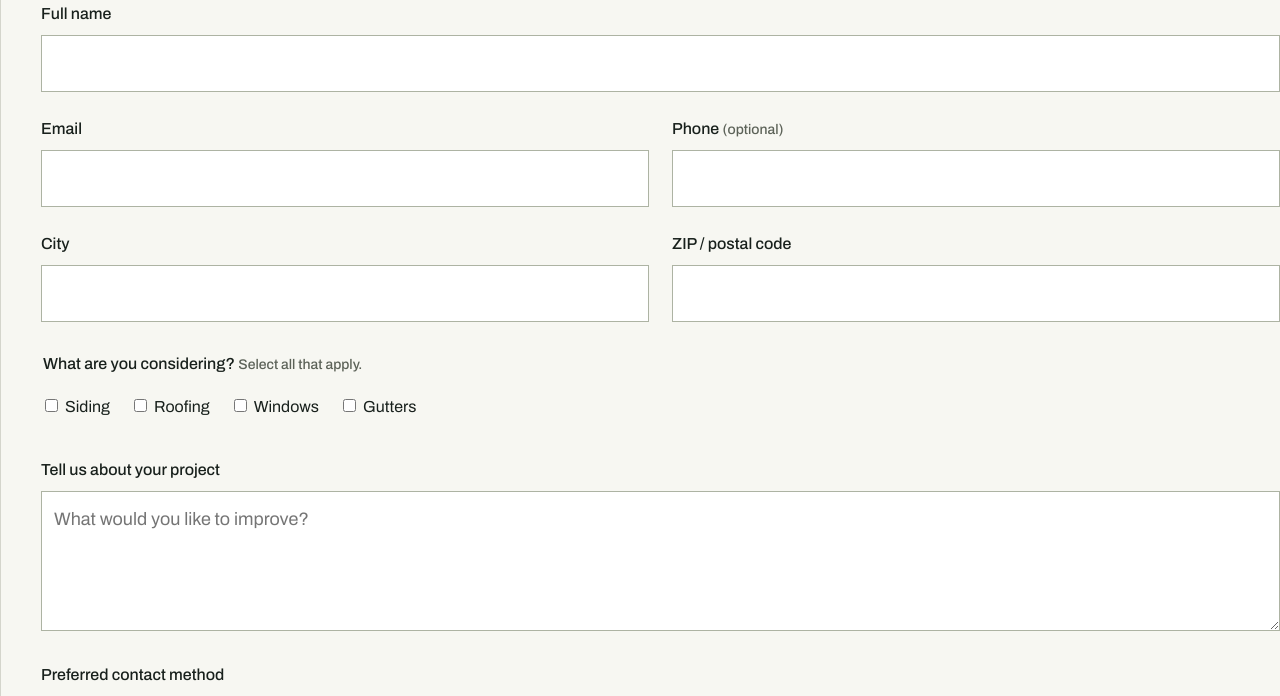
Test: estimate form › posts a multi-service Netlify submission using the detected form name and URL encoding
This screenshot has width=1280, height=696.
Type "Test Homeowner" into the field labelled "Full name" at [660, 64], box [41,36,1279,92]
Type "homeowner@example.com" into the field labelled "Email" at [345, 179], box [41,150,649,207]
Type "Columbus" into the field labelled "City" at [345, 293], box [41,265,649,322]
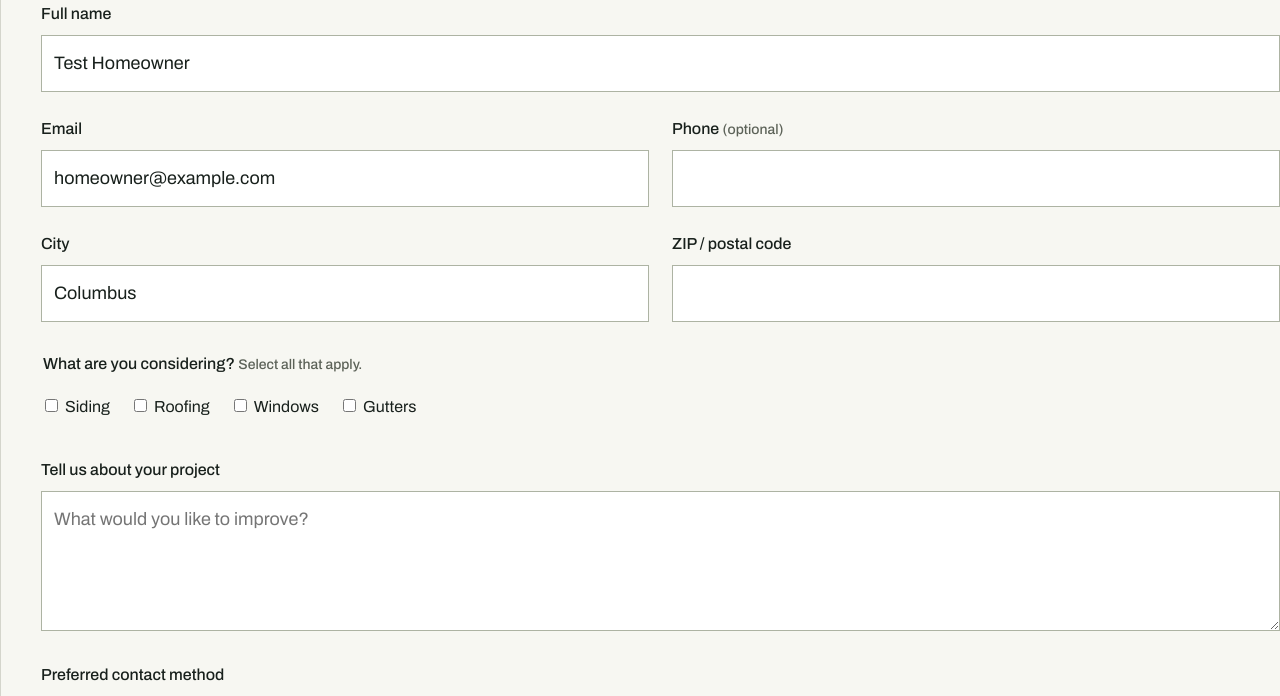
Type "43215" into the field labelled "ZIP / postal code" at [976, 293], box [672,265,1279,322]
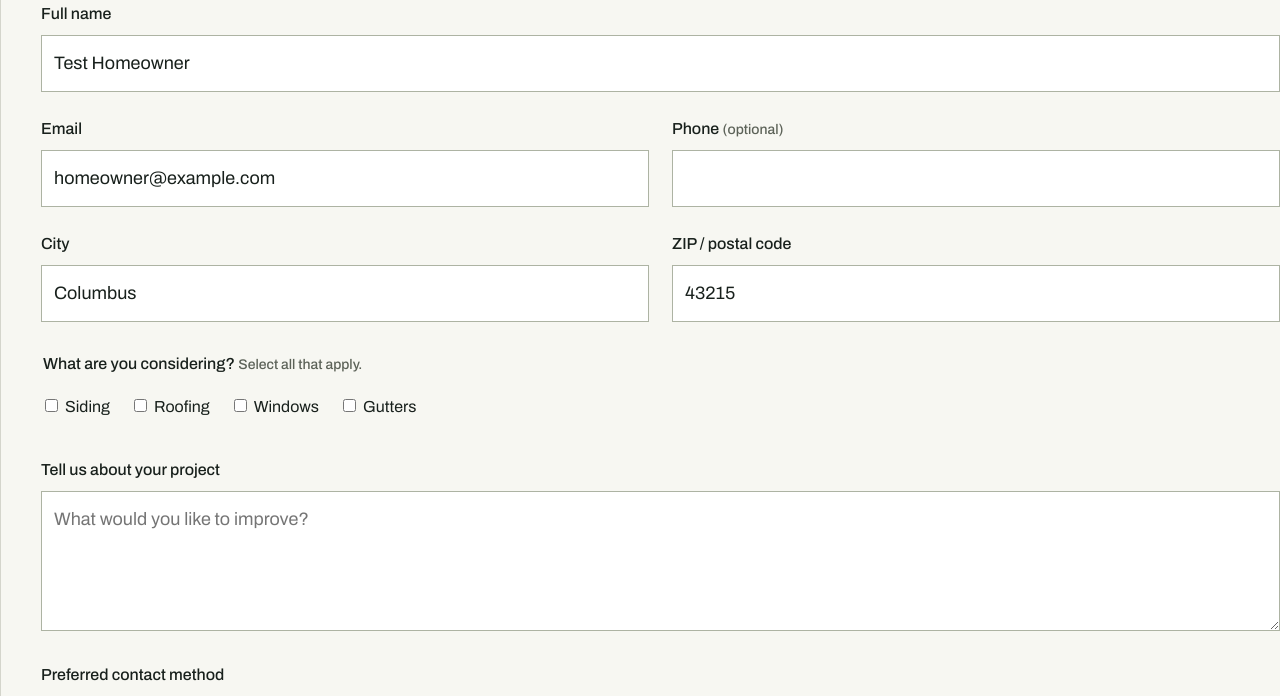
Type "Compare new siding and window trim." into the text box labelled "Tell us about your project" at [660, 561], box [41,491,1279,631]
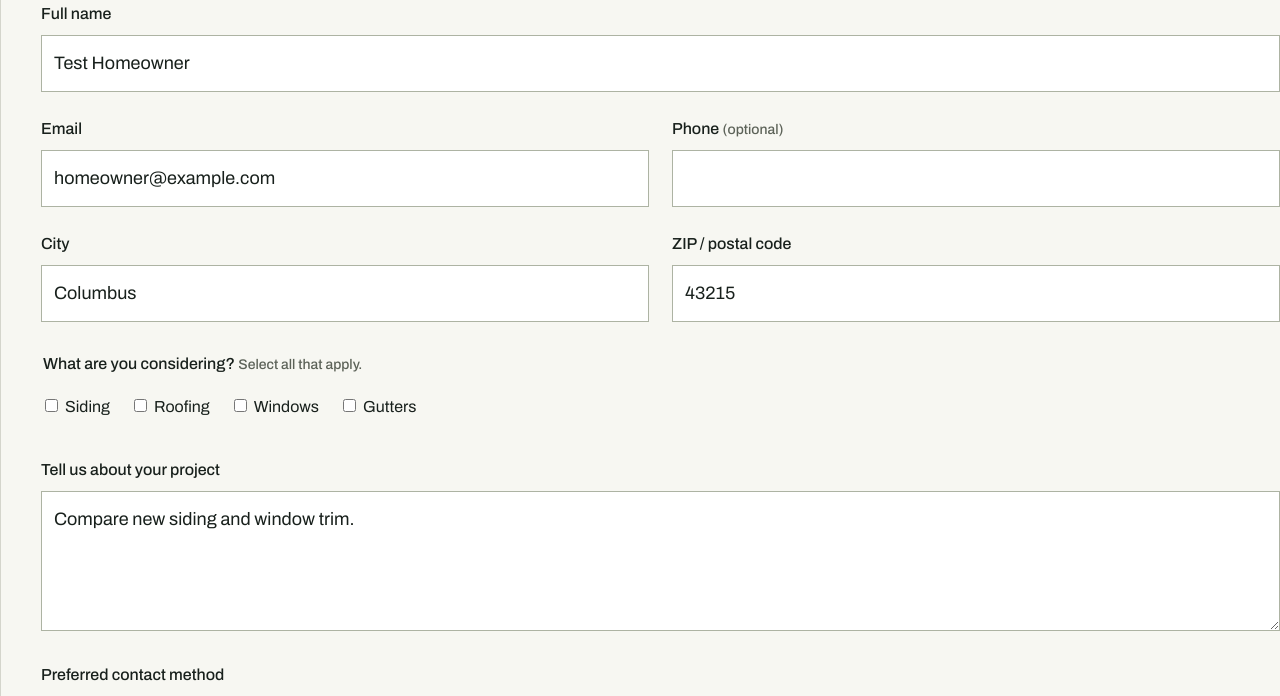
Click the checkbox labelled "Siding" at [52, 405], box [45,399,58,412]
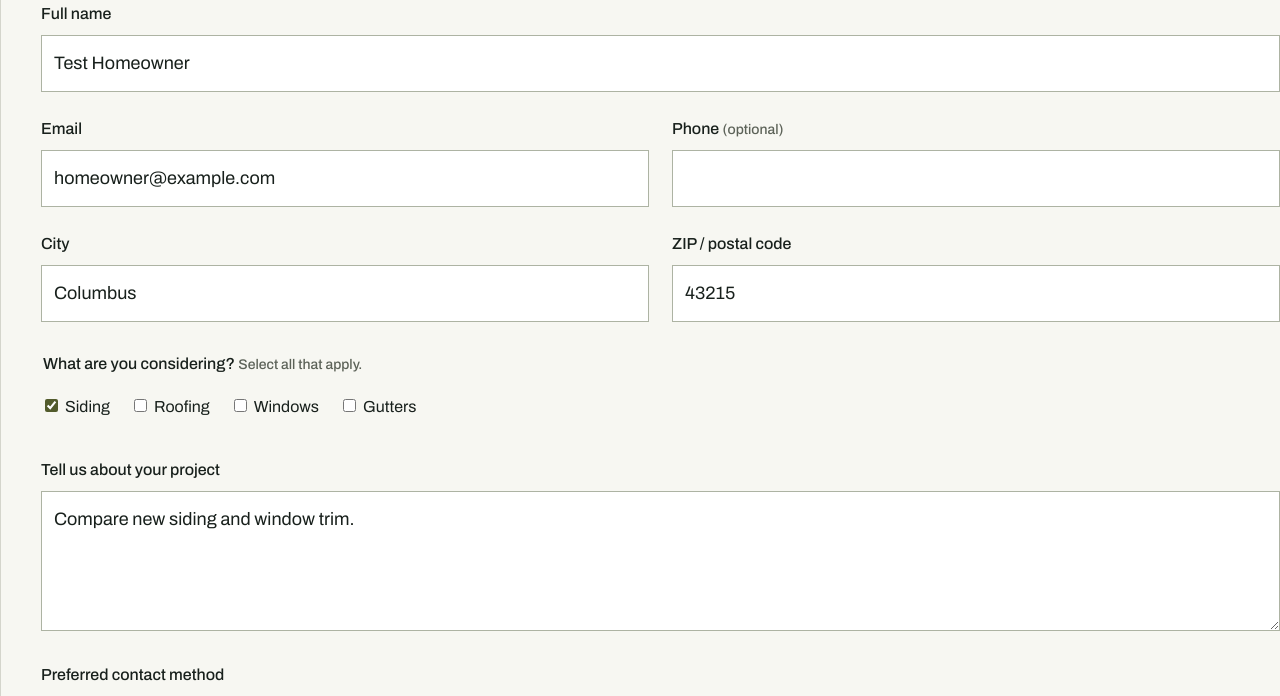
Click the checkbox labelled "Windows" at [240, 405], box [234,399,247,412]
(page scrolled)
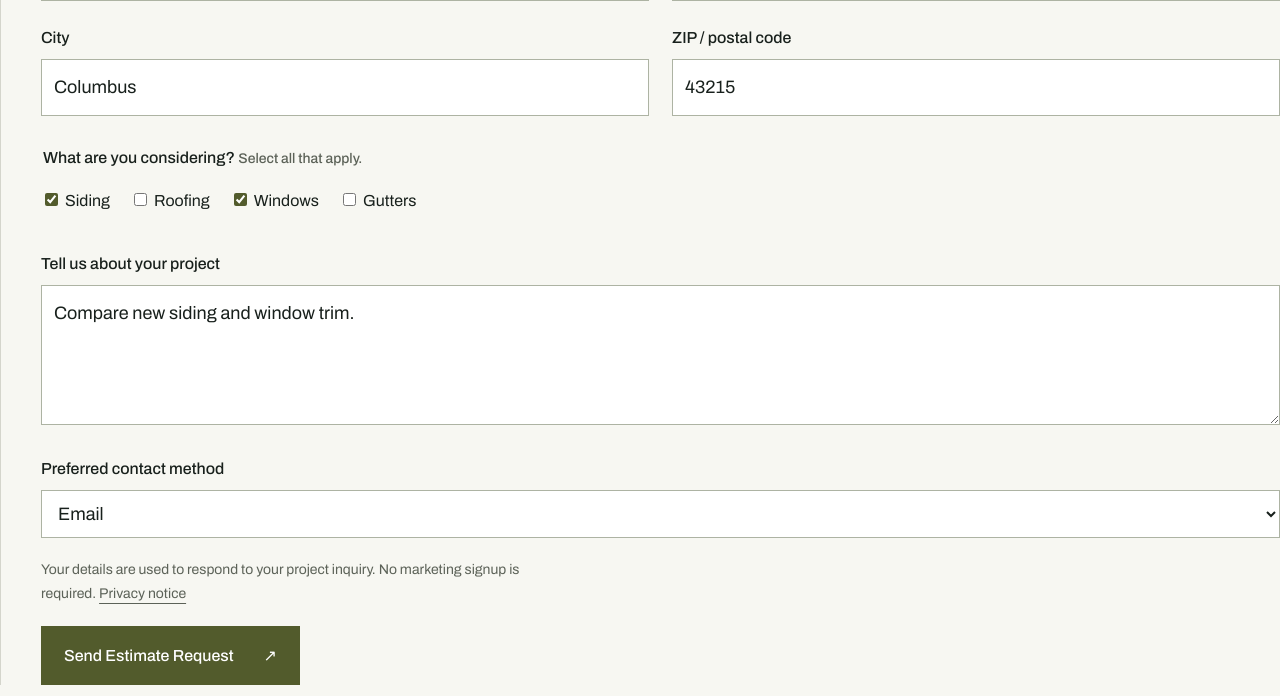
Click the button "Send Estimate Request ↗" at [170, 655], box [41,626,300,685]
(page scrolled)
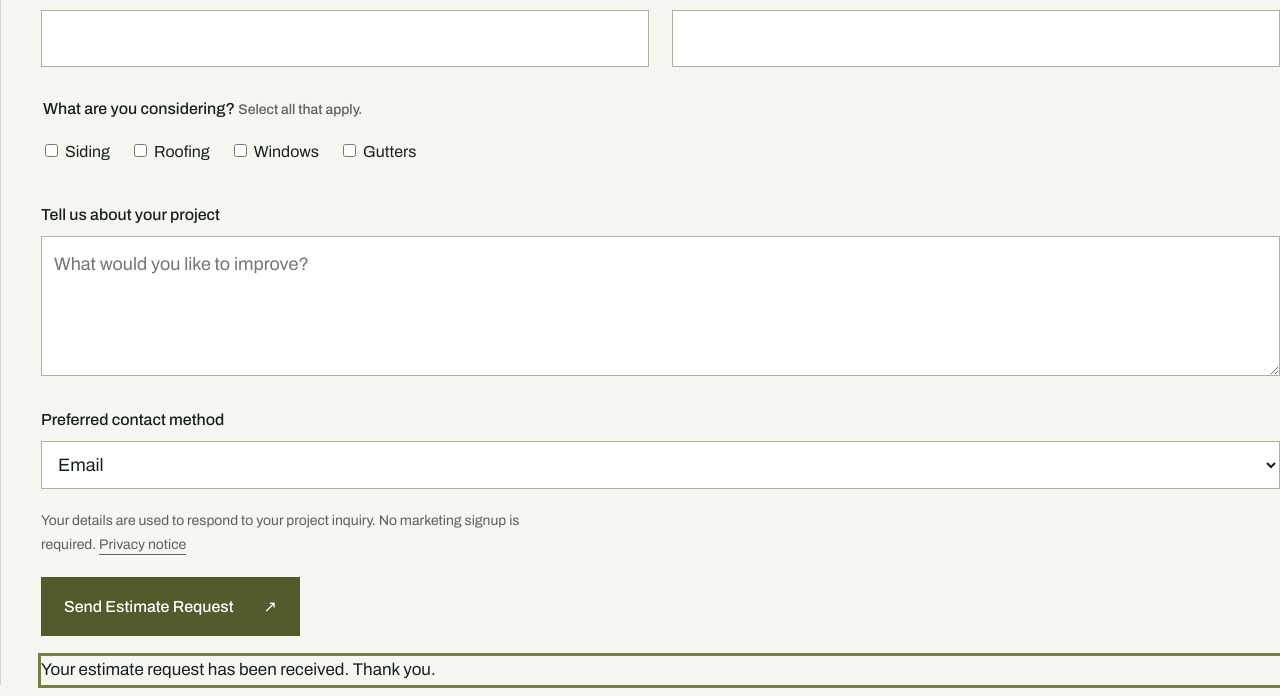
Result: the message shows "request has been received" at [41,660,436,679]
